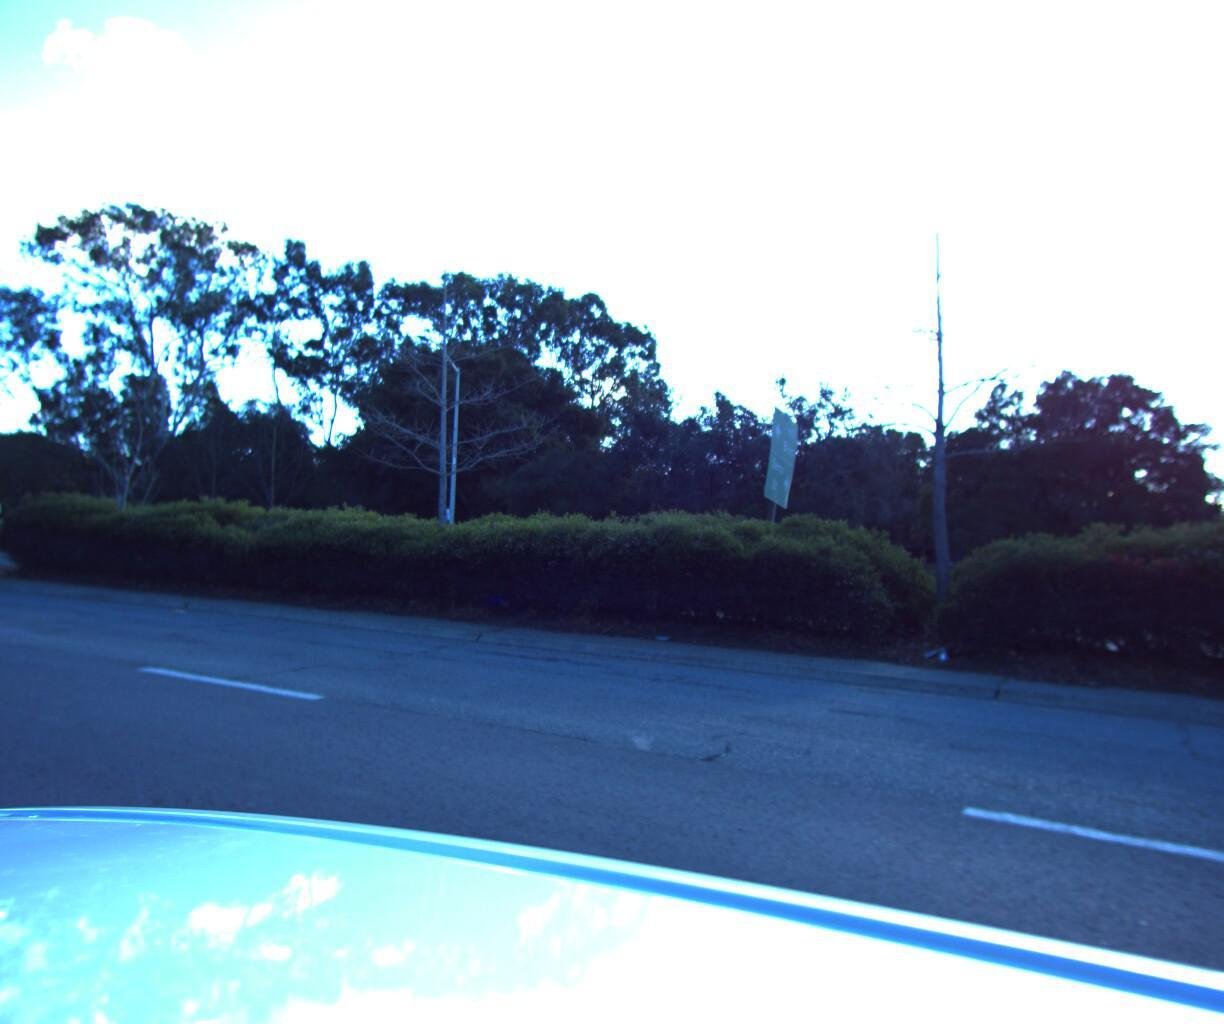car: (0, 513, 36, 546)
